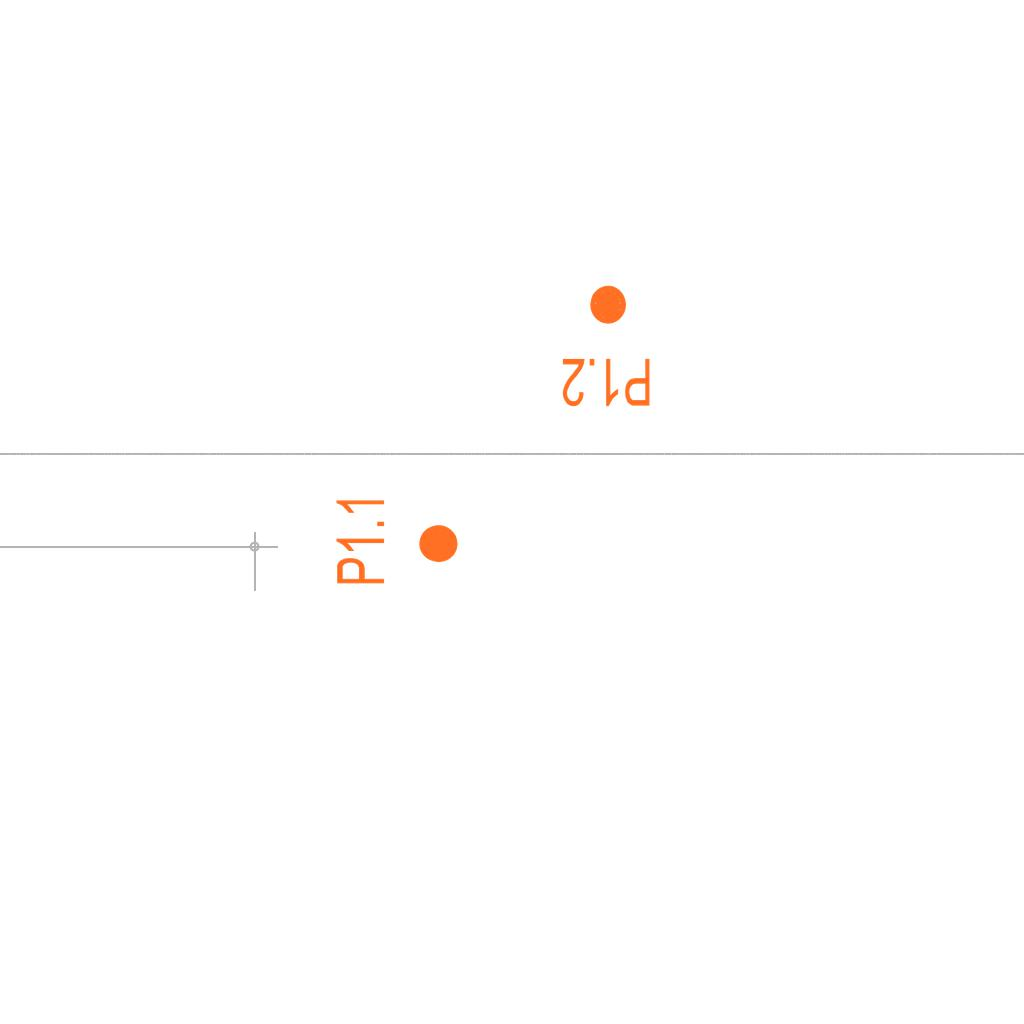Downlight_LED_Einbauleuchten_Flur: (333, 494, 461, 587), (560, 282, 653, 410)
